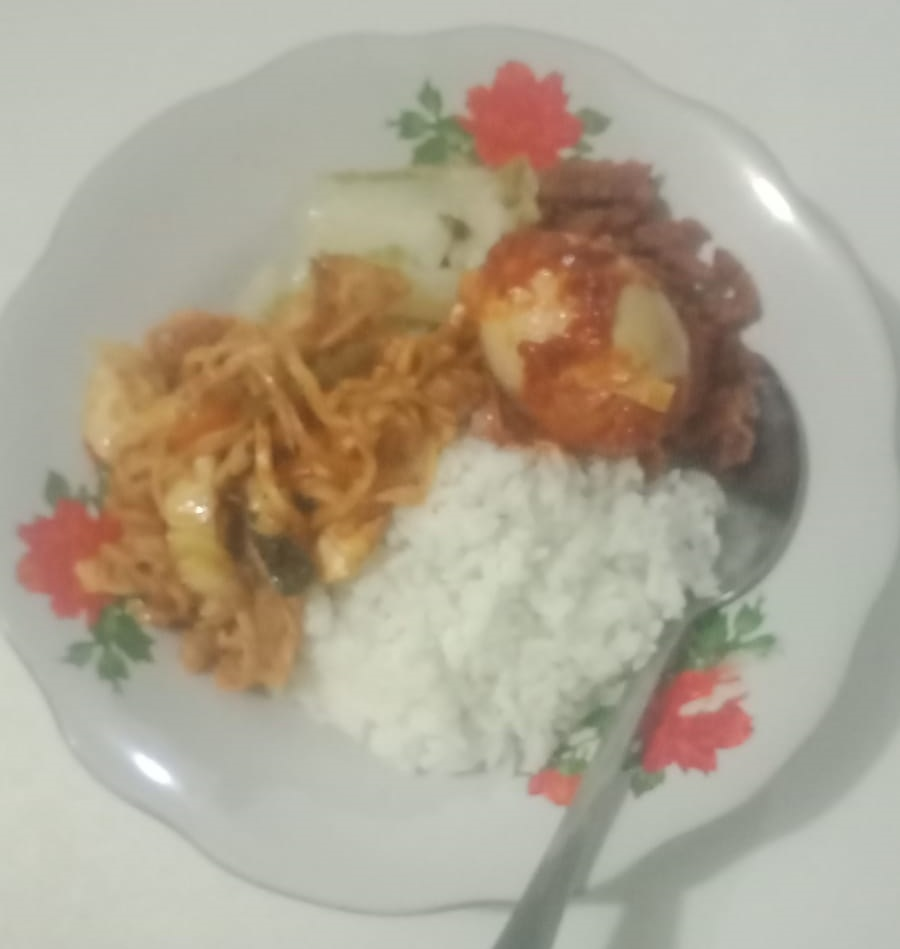Mie: (89, 295, 319, 693)
Nasi: (407, 474, 718, 762)
Sayur_kol: (292, 135, 465, 243)
Telur_bulat_sambel: (479, 248, 698, 453)
Tempe_orek: (557, 159, 705, 236)
